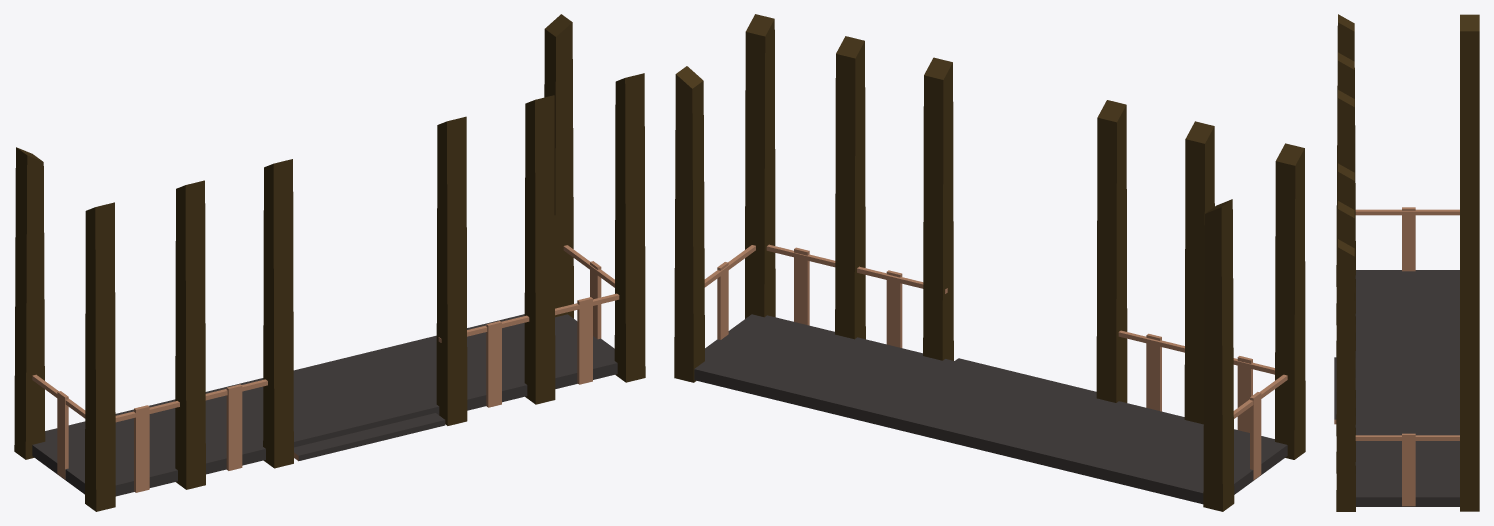
File: porch.fbx
3 views of the same model, side by side, from view 1: azimuth 30°, elevation 25°; view 2: azimuth 150°, elevation 25°; view 3: azimuth 270°, elevation 25° (orthographic). The views are drawn at different scales.
Visible parts, largest first — view 1: Porch; view 2: Porch; view 3: Porch.
Boxes of the visible parts, bbox=[...] form: Porch: bbox=[14, 14, 645, 511]; Porch: bbox=[674, 14, 1305, 511]; Porch: bbox=[1334, 14, 1479, 511].
Bounding box in the file's own units: 2198 × 1164 × 578.
